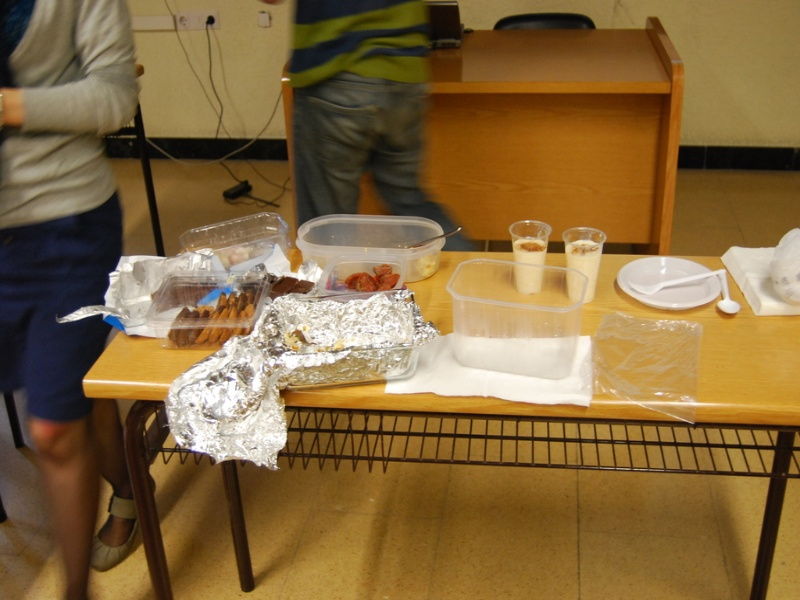dining table: (91, 208, 800, 599)
